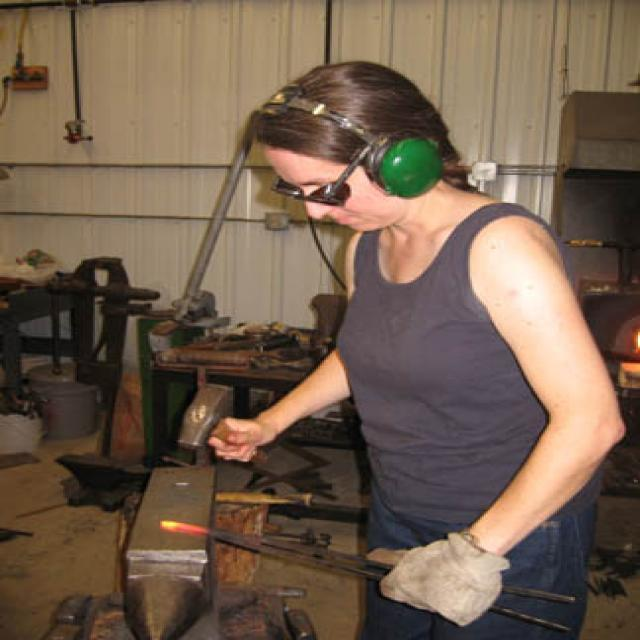hammer: (161, 377, 297, 478)
